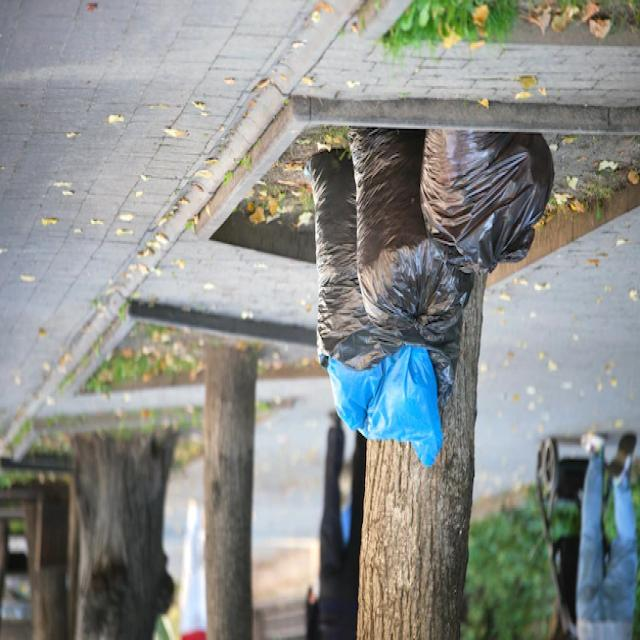garbage: (277, 105, 552, 467)
